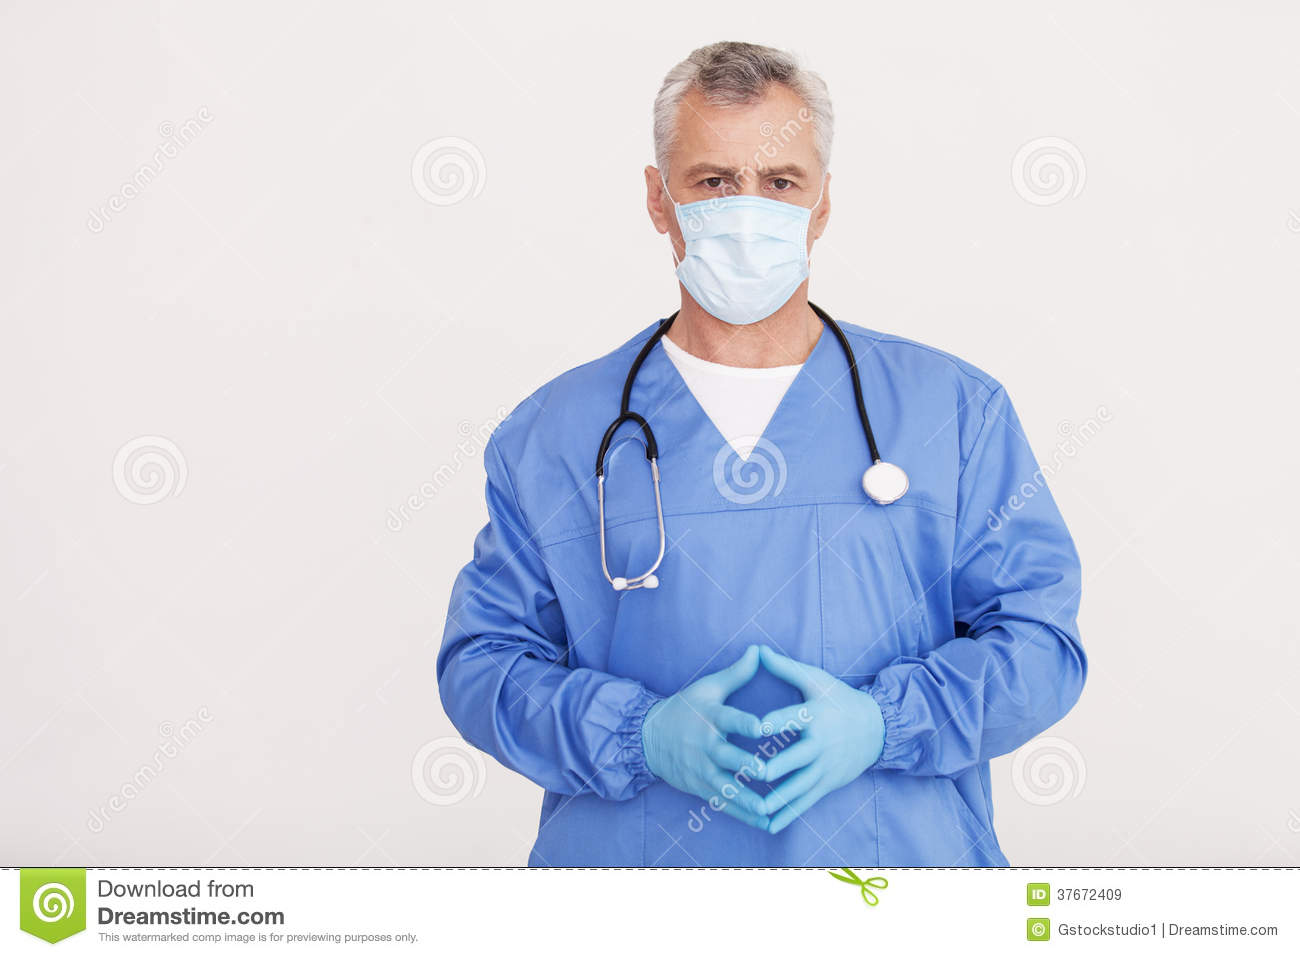mask: (673, 202, 828, 320)
